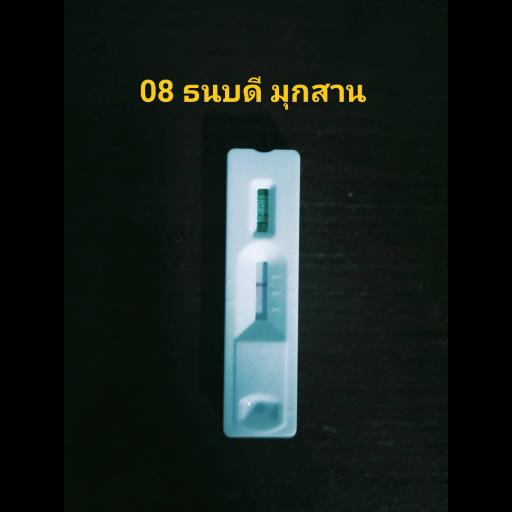Neg: (226, 148, 300, 438)
